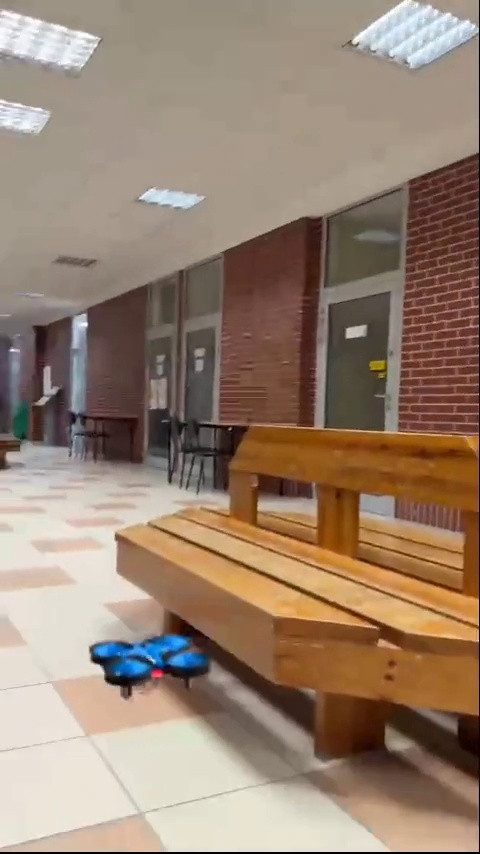drone: (86, 632, 210, 704)
